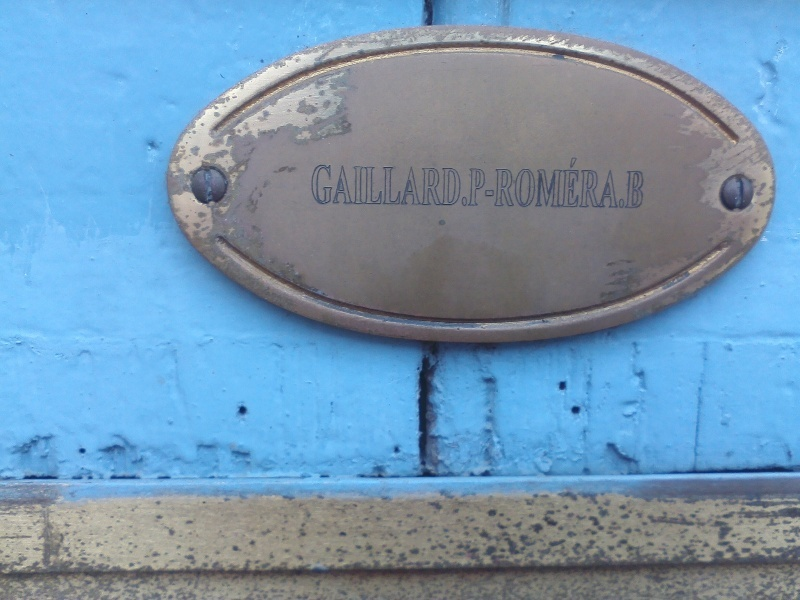text: (321, 157, 336, 211), (337, 157, 352, 211), (353, 157, 368, 211), (369, 157, 384, 211), (385, 157, 400, 211), (401, 157, 416, 211), (417, 157, 432, 211), (433, 157, 448, 211), (449, 157, 464, 211), (465, 157, 480, 211), (481, 157, 496, 211), (497, 157, 512, 211), (513, 157, 528, 211), (529, 157, 544, 211), (545, 157, 560, 211), (561, 157, 576, 211), (577, 157, 592, 211), (593, 157, 608, 211), (609, 157, 624, 211), (625, 157, 640, 211), (313, 157, 320, 211), (641, 157, 647, 211)
